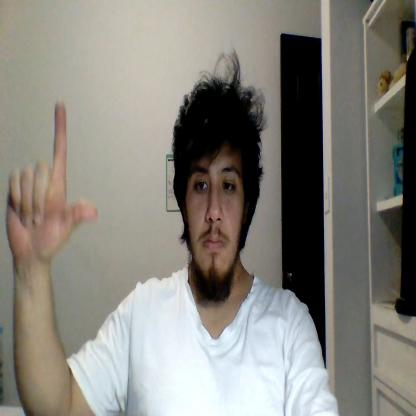L: (6, 100, 98, 263)
